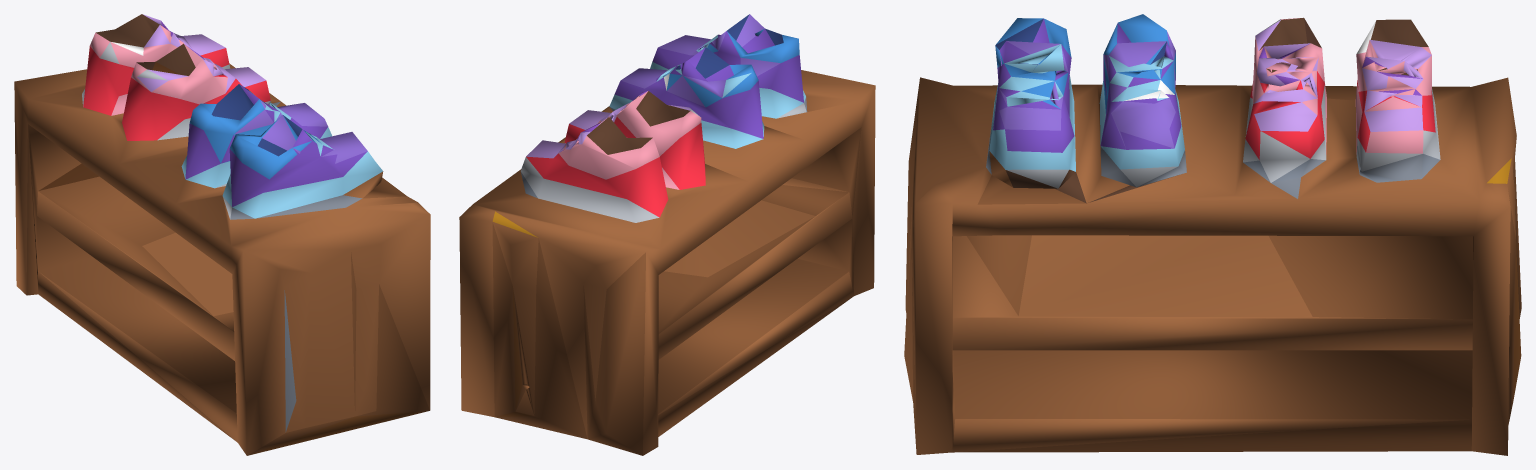
Rendered from SM_shoe_rack.fbx.
The picture shows the model from 3 angles, left to right: view 1: azimuth 30°, elevation 25°; view 2: azimuth 150°, elevation 25°; view 3: azimuth 270°, elevation 25°; orthographic projection. The views are drawn at different scales.
Visible parts, largest first — view 1: SM_shoe_rack; view 2: SM_shoe_rack; view 3: SM_shoe_rack.
Boxes of the visible parts, x1,y1,x2,y2 form: SM_shoe_rack: (14, 14, 430, 455); SM_shoe_rack: (459, 14, 875, 455); SM_shoe_rack: (904, 14, 1521, 455).
Size of the model in its own units: 38.63 by 55 by 85.94.
1 material, 1 textured.
